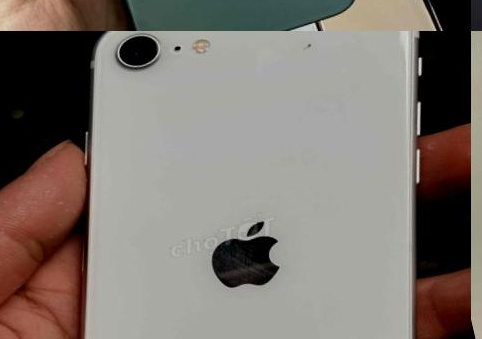scratch: (300, 33, 316, 52)
